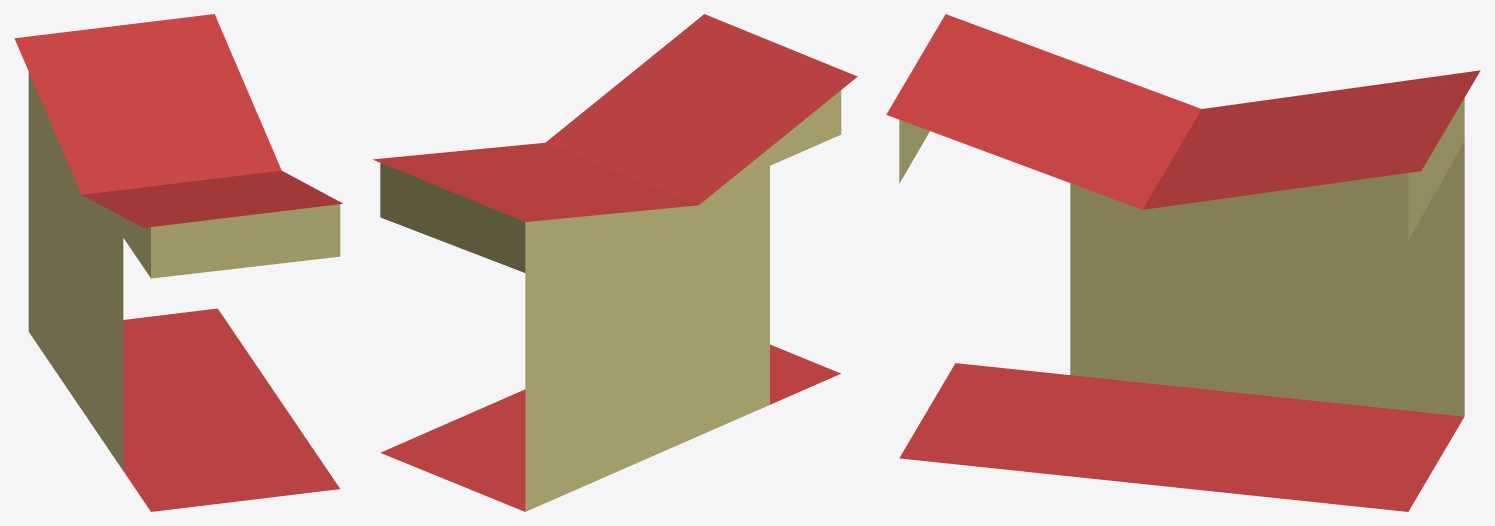
The picture shows the model from 3 angles, left to right: view 1: azimuth 30°, elevation 25°; view 2: azimuth 150°, elevation 25°; view 3: azimuth 270°, elevation 25°; orthographic projection. The views are drawn at different scales.
Size of the model in its own units: 6.94 by 11.09 by 7.04.
